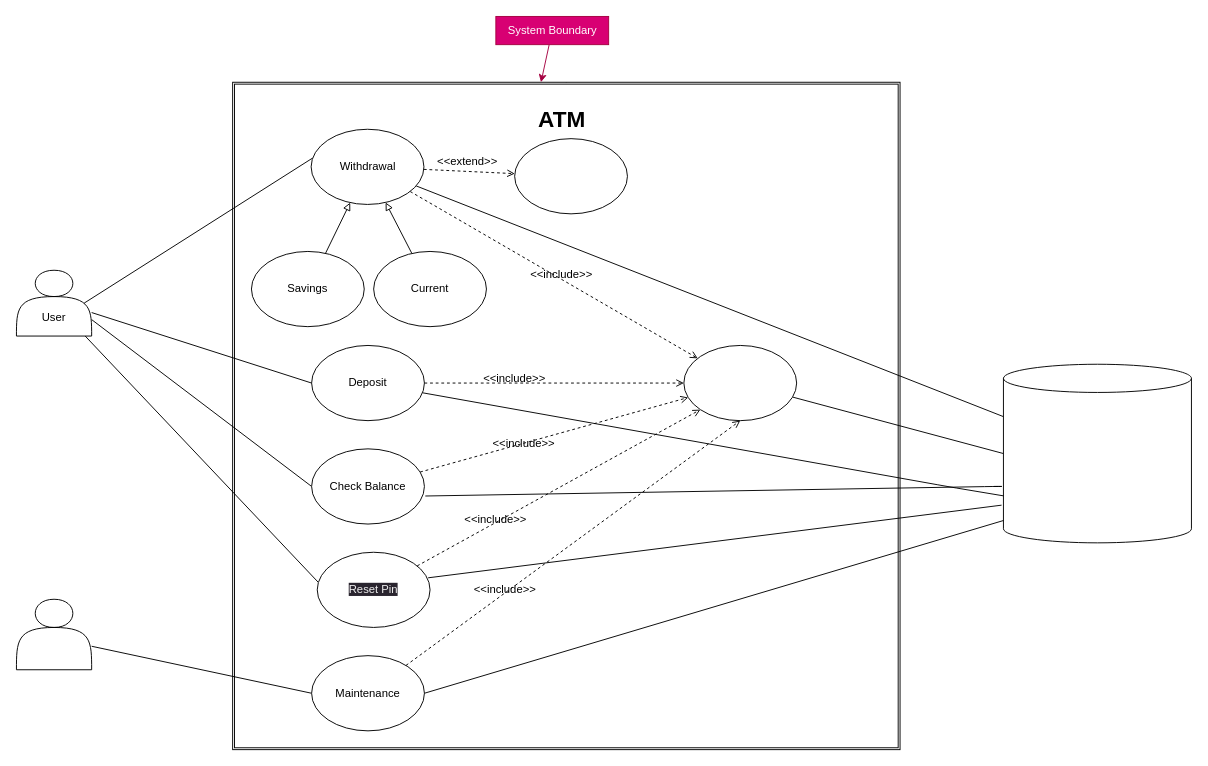
The diagram is 1208 pixels wide and 766 high, and some of its shapes have lost their labels. The centre of each missing label's shape, as x and y in pixels:
Enter Pin to login: (x=740, y=383)
Maintenance Engineer: (x=54, y=634)
Print Reciept: (x=570, y=176)
Server: (x=1097, y=453)
